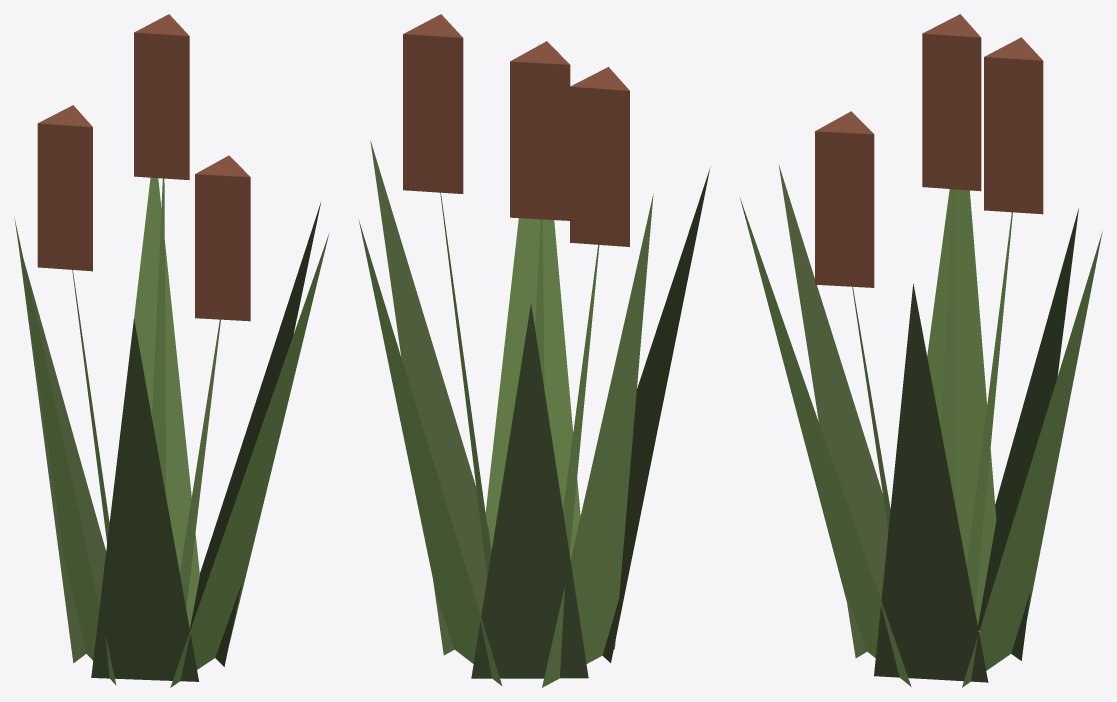
Rendered from plant_bulrush_c.obj.
The picture shows the model from 3 angles, left to right: view 1: azimuth 30°, elevation 25°; view 2: azimuth 150°, elevation 25°; view 3: azimuth 270°, elevation 25°; orthographic projection. The views are drawn at different scales.
Visible parts, largest first — view 1: plant_bulrush_c_4, plant_bulrush_c_5, plant_bulrush_c_1, plant_bulrush_c_11, plant_bulrush_c_7, plant_bulrush_c_9, plant_bulrush_c_3, plant_bulrush_c_2, plant_bulrush_c_0, plant_bulrush_c_6, plant_bulrush_c_10, plant_bulrush_c_8; view 2: plant_bulrush_c_2, plant_bulrush_c_3, plant_bulrush_c_0, plant_bulrush_c_5, plant_bulrush_c_7, plant_bulrush_c_11, plant_bulrush_c_9, plant_bulrush_c_1, plant_bulrush_c_4, plant_bulrush_c_8, plant_bulrush_c_6, plant_bulrush_c_10; view 3: plant_bulrush_c_0, plant_bulrush_c_3, plant_bulrush_c_4, plant_bulrush_c_1, plant_bulrush_c_7, plant_bulrush_c_9, plant_bulrush_c_11, plant_bulrush_c_5, plant_bulrush_c_2, plant_bulrush_c_6, plant_bulrush_c_8, plant_bulrush_c_10.
Part boxes in pixels (box(x1,y1,x2,y2)): plant_bulrush_c_4: box(91, 318, 198, 681); plant_bulrush_c_5: box(170, 233, 329, 687); plant_bulrush_c_1: box(134, 177, 199, 628); plant_bulrush_c_11: box(195, 155, 250, 321); plant_bulrush_c_7: box(134, 14, 189, 180); plant_bulrush_c_9: box(37, 105, 92, 271); plant_bulrush_c_3: box(14, 217, 116, 684); plant_bulrush_c_2: box(19, 252, 106, 663); plant_bulrush_c_0: box(190, 201, 321, 666); plant_bulrush_c_6: box(152, 178, 166, 496); plant_bulrush_c_10: box(180, 319, 220, 608); plant_bulrush_c_8: box(72, 270, 109, 543); plant_bulrush_c_2: box(471, 303, 588, 678); plant_bulrush_c_3: box(542, 193, 653, 687); plant_bulrush_c_0: box(370, 140, 491, 655); plant_bulrush_c_5: box(485, 43, 580, 559); plant_bulrush_c_7: box(403, 14, 463, 193); plant_bulrush_c_11: box(510, 41, 570, 220); plant_bulrush_c_9: box(570, 67, 629, 246); plant_bulrush_c_1: box(358, 219, 502, 685); plant_bulrush_c_4: box(602, 167, 710, 662); plant_bulrush_c_8: box(563, 245, 599, 553); plant_bulrush_c_6: box(440, 192, 491, 576); plant_bulrush_c_10: box(535, 219, 544, 387); plant_bulrush_c_0: box(874, 284, 988, 682); plant_bulrush_c_3: box(927, 189, 996, 625); plant_bulrush_c_4: box(778, 164, 888, 658); plant_bulrush_c_1: box(962, 231, 1102, 687); plant_bulrush_c_7: box(984, 37, 1043, 214); plant_bulrush_c_9: box(922, 14, 981, 191); plant_bulrush_c_11: box(815, 111, 874, 287); plant_bulrush_c_5: box(740, 198, 911, 686); plant_bulrush_c_2: box(978, 208, 1078, 660); plant_bulrush_c_6: box(966, 212, 1012, 610); plant_bulrush_c_8: box(941, 189, 956, 512); plant_bulrush_c_10: box(852, 286, 890, 530).
Size of the model in its own units: 0.4546 by 0.9 by 0.4724.
